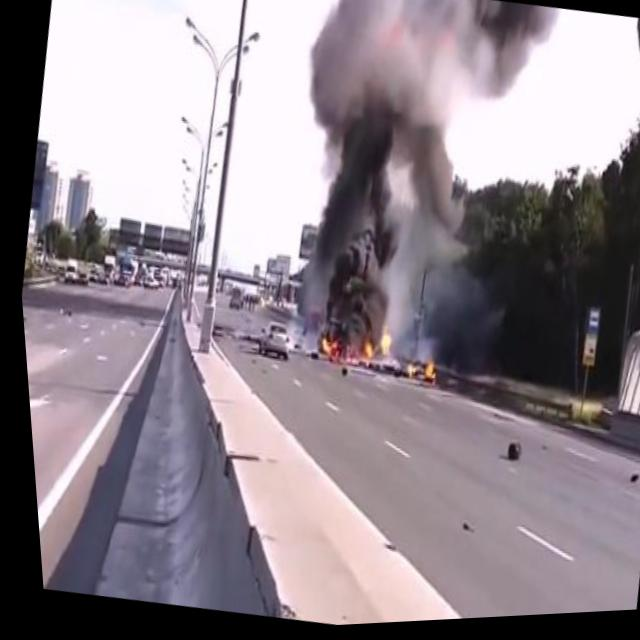fire: (309, 334, 340, 367), (371, 327, 392, 368), (356, 342, 371, 365), (418, 364, 432, 388), (398, 360, 411, 382)
